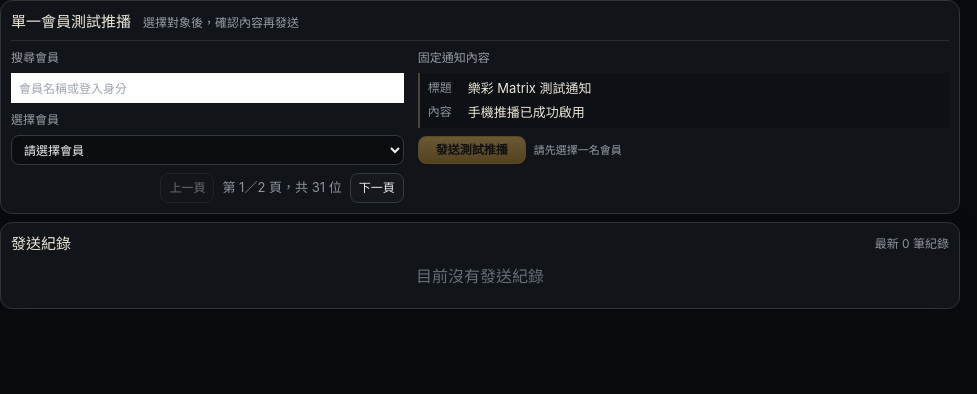
NotificationManagement › retries recipient status after a post-send refresh failure even when the selection is off-page
Select "會員一" in the dropdown named "選擇會員". click: (207, 150)
box: [11, 135, 404, 165]
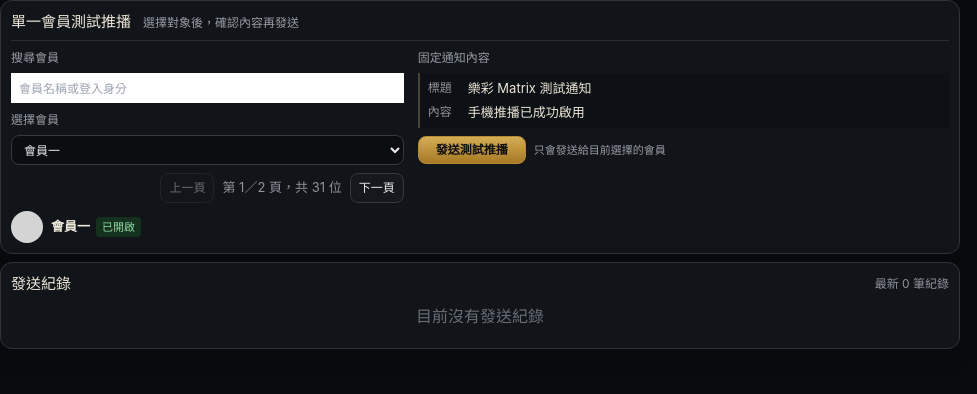
Click the button "下一頁". click: click(377, 188)
box: [350, 173, 404, 203]
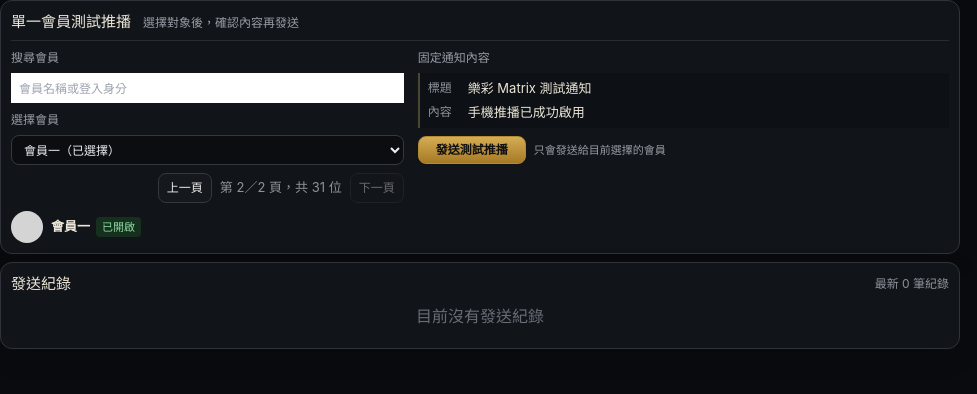
Click the button "發送測試推播". click: click(472, 150)
box: [418, 136, 526, 164]
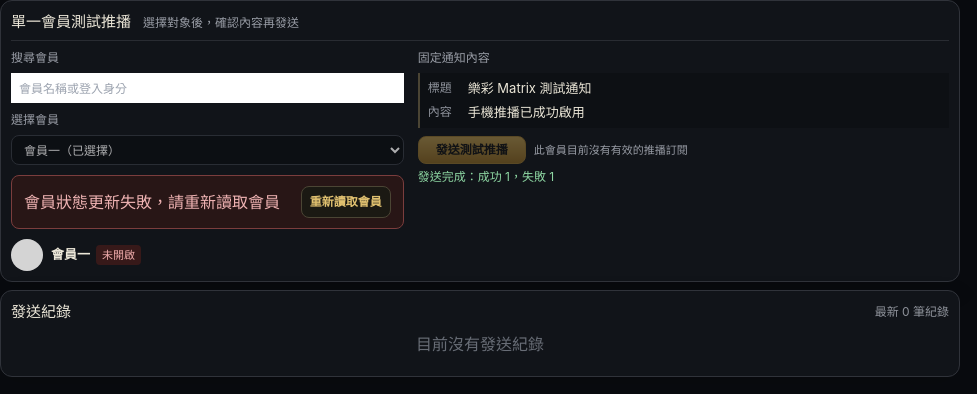
Check: the button "發送測試推播" is disabled, box [418, 136, 526, 164]
Click the button "重新讀取會員". click: click(346, 202)
box: [301, 186, 391, 218]
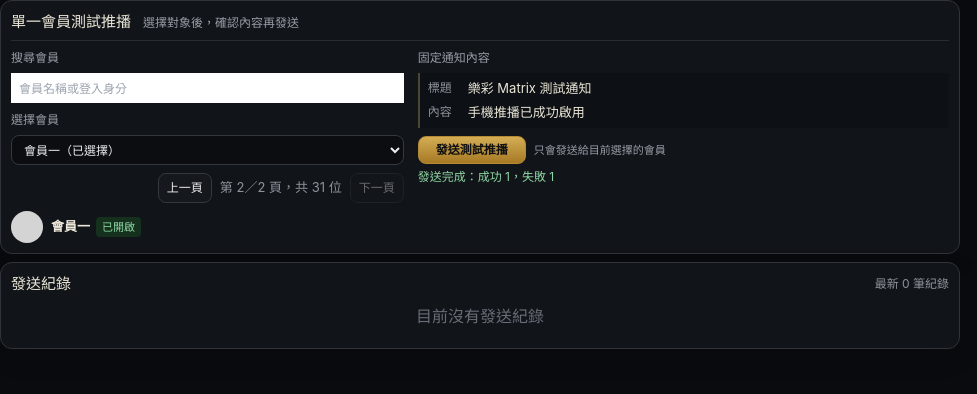
Check: the button "發送測試推播" is enabled, box [418, 136, 526, 164]
